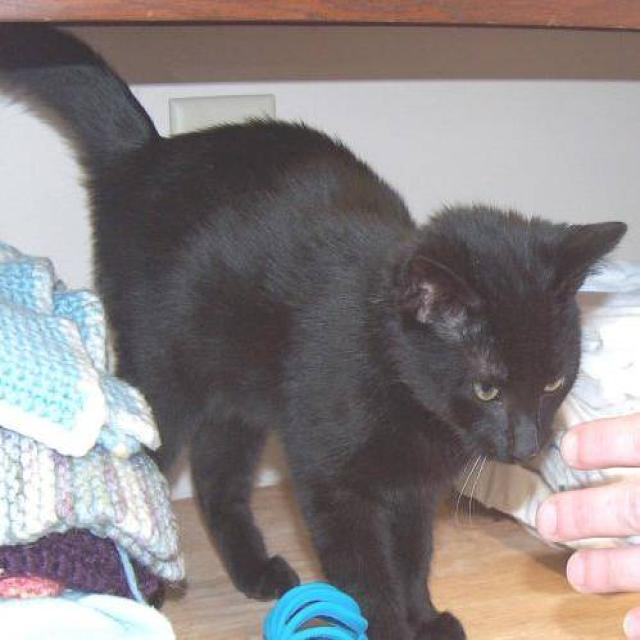cat: (0, 19, 627, 639)
